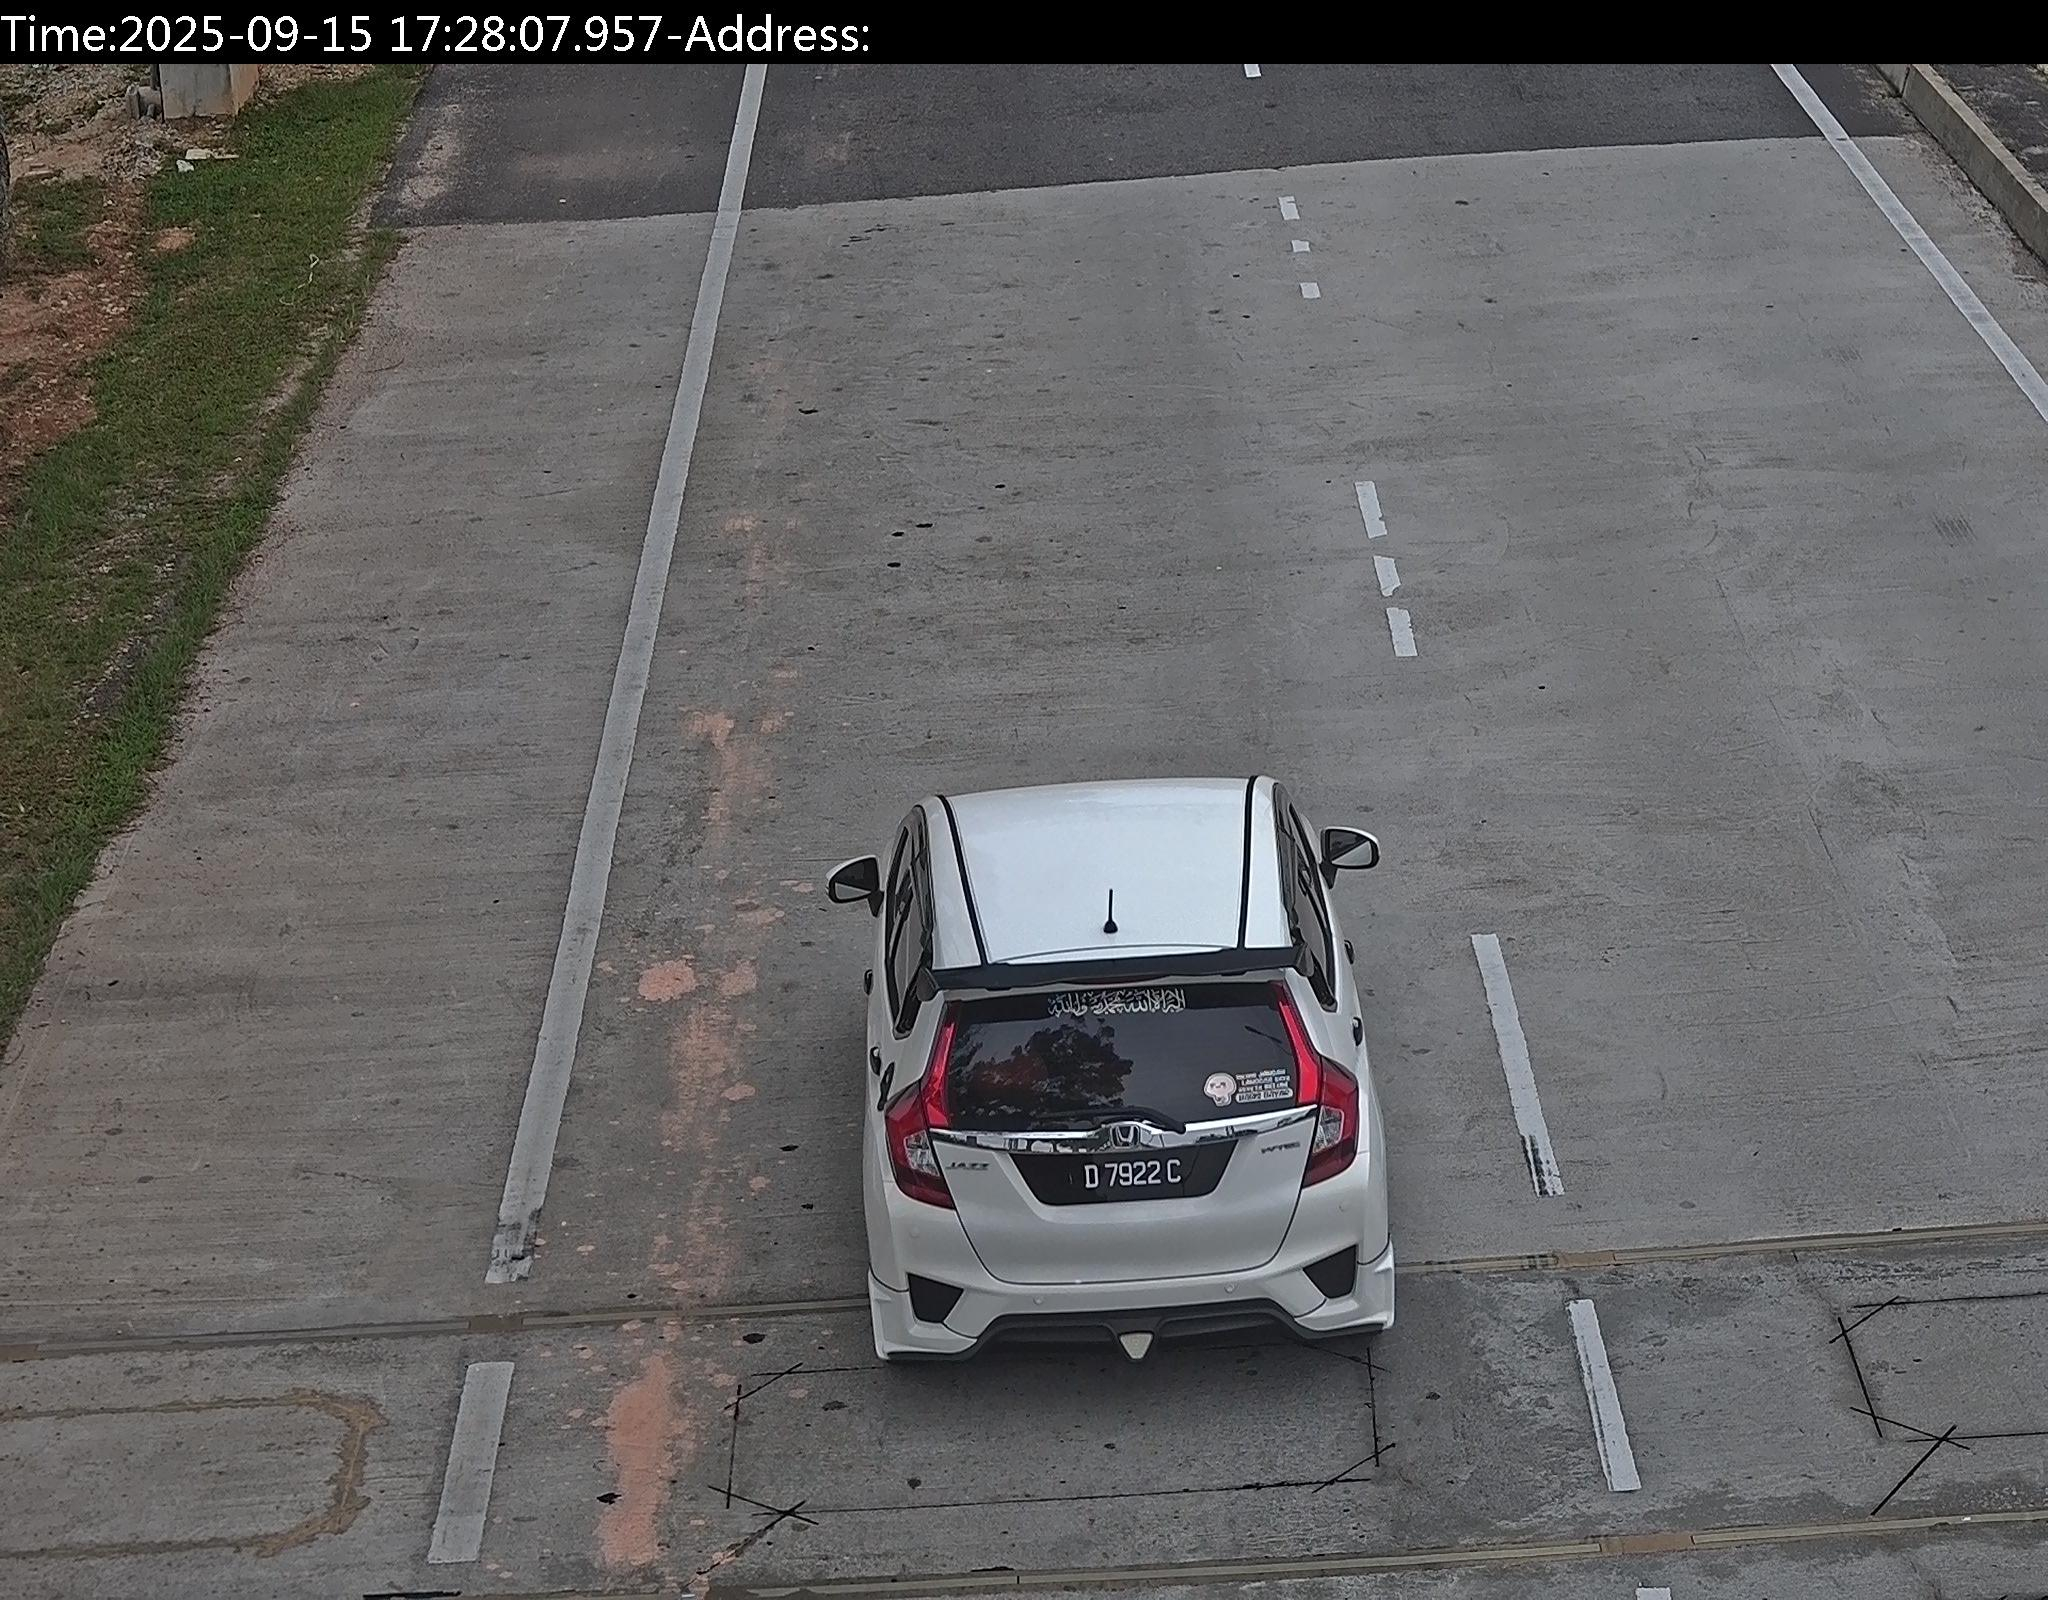non broken: (1062, 1151, 1195, 1193)
